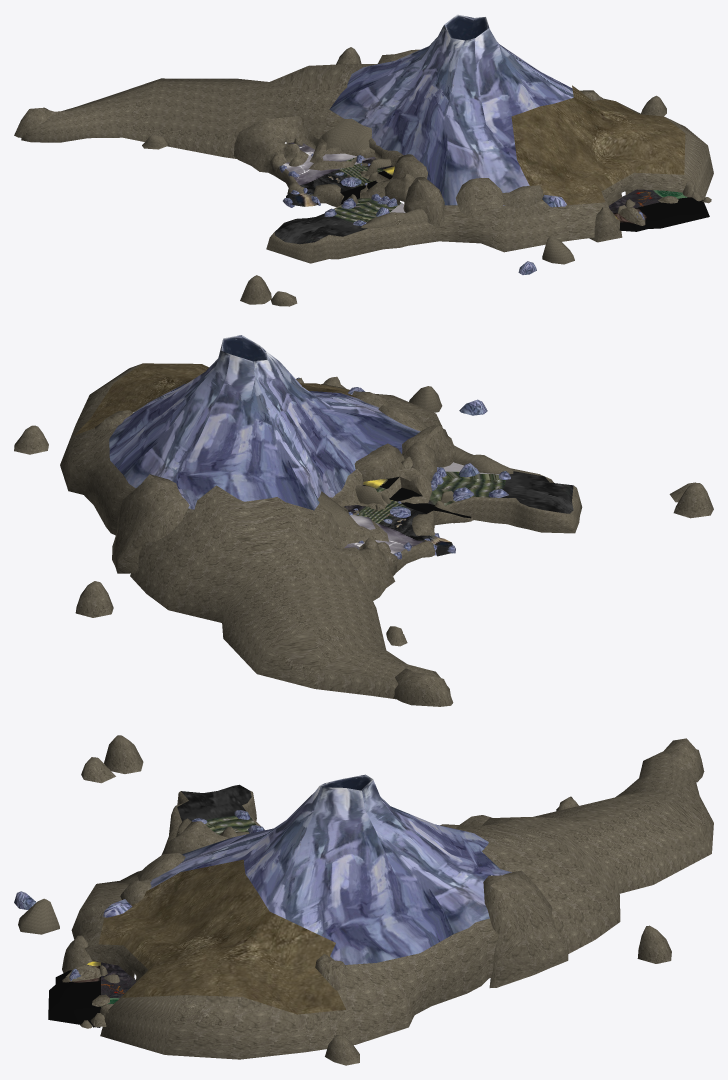
File: pir_m_are_isl_madre_del_fuego.fbx
3 views of the same model, one above another, from view 1: azimuth 30°, elevation 25°; view 2: azimuth 150°, elevation 25°; view 3: azimuth 270°, elevation 25° (orthographic). The views are drawn at different scales.
Parts seen in each view (by area): view 1: peak, peninsula, jungle_top, cliff2, cliff1, cliffs1, beach_crab, volcano_peak7, plataeu_fort, cliffs2, mound_large_011, mound_large_05 (+11 smaller); view 2: peninsula, peak, mound_large_02, cliff3, jungle_top, cliff1, volcano_peak7, cliffs1, cliffs2, plataeu_fort, mound_large_04, cliff2 (+9 smaller); view 3: peak, peninsula, jungle_top, cliff2, cliff3, mound_large_02, beach_crab, plataeu_fort, mound_large_05, mound_med_06, mound_med_012, mound_large_04 (+8 smaller).
Boxes of the visible parts, box(x1,y1,x2,y2) form: peak: box(329, 14, 573, 205); peninsula: box(21, 64, 377, 158); jungle_top: box(511, 85, 685, 204); cliff2: box(438, 101, 713, 252); cliff1: box(266, 204, 439, 263); cliffs1: box(233, 115, 326, 175); beach_crab: box(608, 189, 709, 231); volcano_peak7: box(282, 142, 377, 206); plataeu_fort: box(274, 213, 367, 244); cliffs2: box(309, 137, 403, 198); mound_large_011: box(455, 178, 503, 217); mound_large_05: box(403, 177, 444, 227); peninsula: box(130, 485, 450, 699); peak: box(109, 335, 420, 510); mound_large_02: box(112, 474, 189, 573); cliff3: box(60, 426, 135, 535); jungle_top: box(74, 363, 357, 435); cliff1: box(445, 468, 582, 533); volcano_peak7: box(344, 487, 471, 556); cliffs1: box(319, 524, 397, 600); cliffs2: box(330, 468, 431, 541); plataeu_fort: box(501, 471, 573, 513); mound_large_04: box(394, 668, 453, 706); cliff2: box(60, 364, 441, 463); peak: box(149, 774, 511, 964); peninsula: box(456, 751, 713, 953); jungle_top: box(98, 859, 345, 1014); cliff2: box(71, 870, 355, 1059); cliff3: box(337, 918, 498, 1044); mound_large_02: box(483, 870, 568, 987); beach_crab: box(48, 961, 135, 1027); plataeu_fort: box(177, 784, 251, 821); mound_large_05: box(161, 821, 227, 854); mound_med_06: box(104, 735, 143, 773); mound_med_012: box(18, 898, 59, 934); mound_large_04: box(663, 738, 704, 782).
Size of what is drawn, in the model's own units: 394139 by 106328 by 374689.
Materials: 4 (4 with a texture image).
